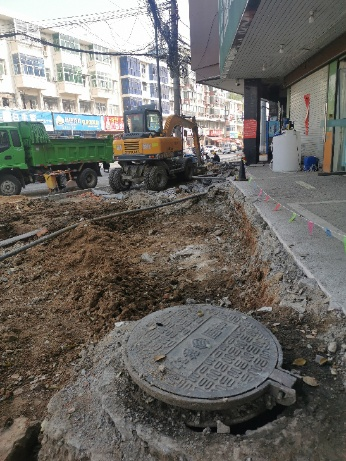good: (123, 303, 299, 420)
